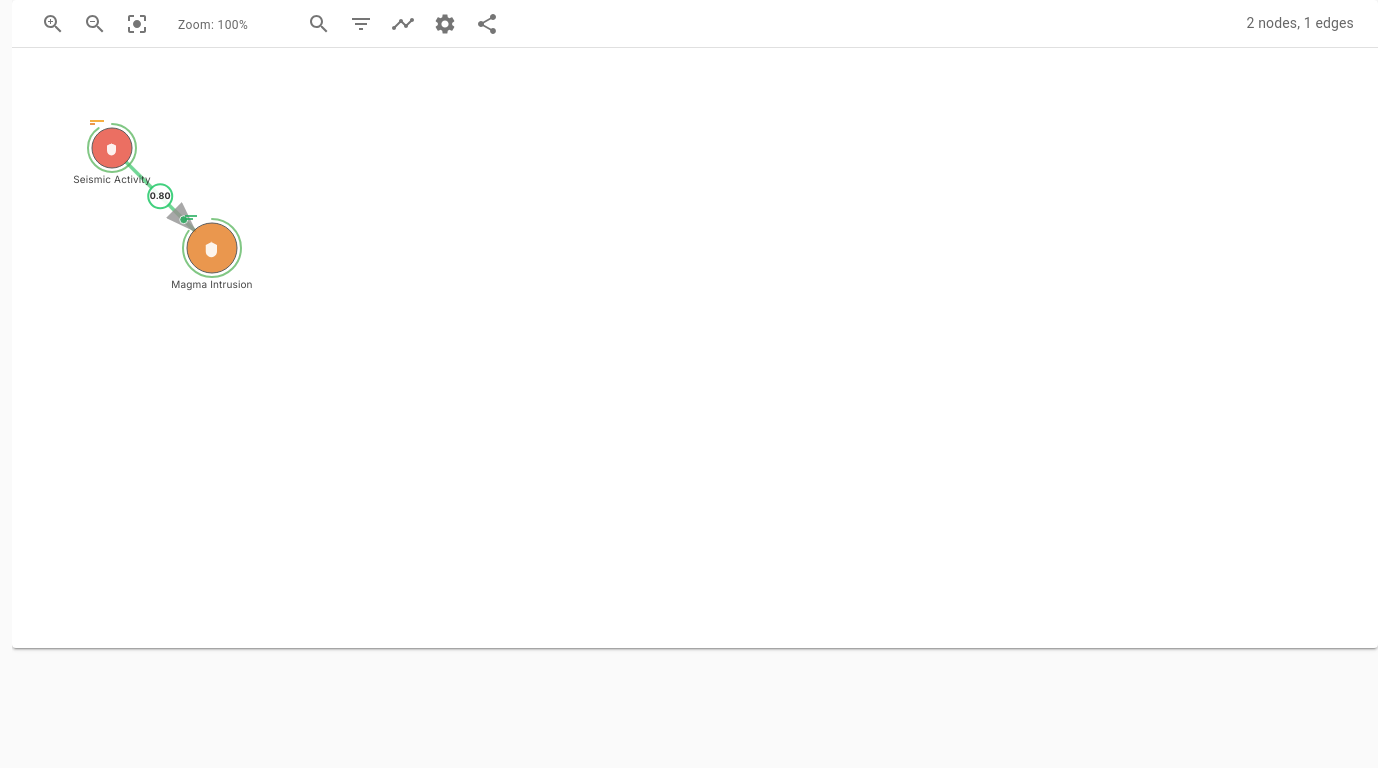
CausalNetworkVisualization › opens filter panel when filter button is clicked
What coordinates should you click on to do the following:
click the button named "Filter"
I would click on:
 (361, 24)
Its box is [344,6,378,40].
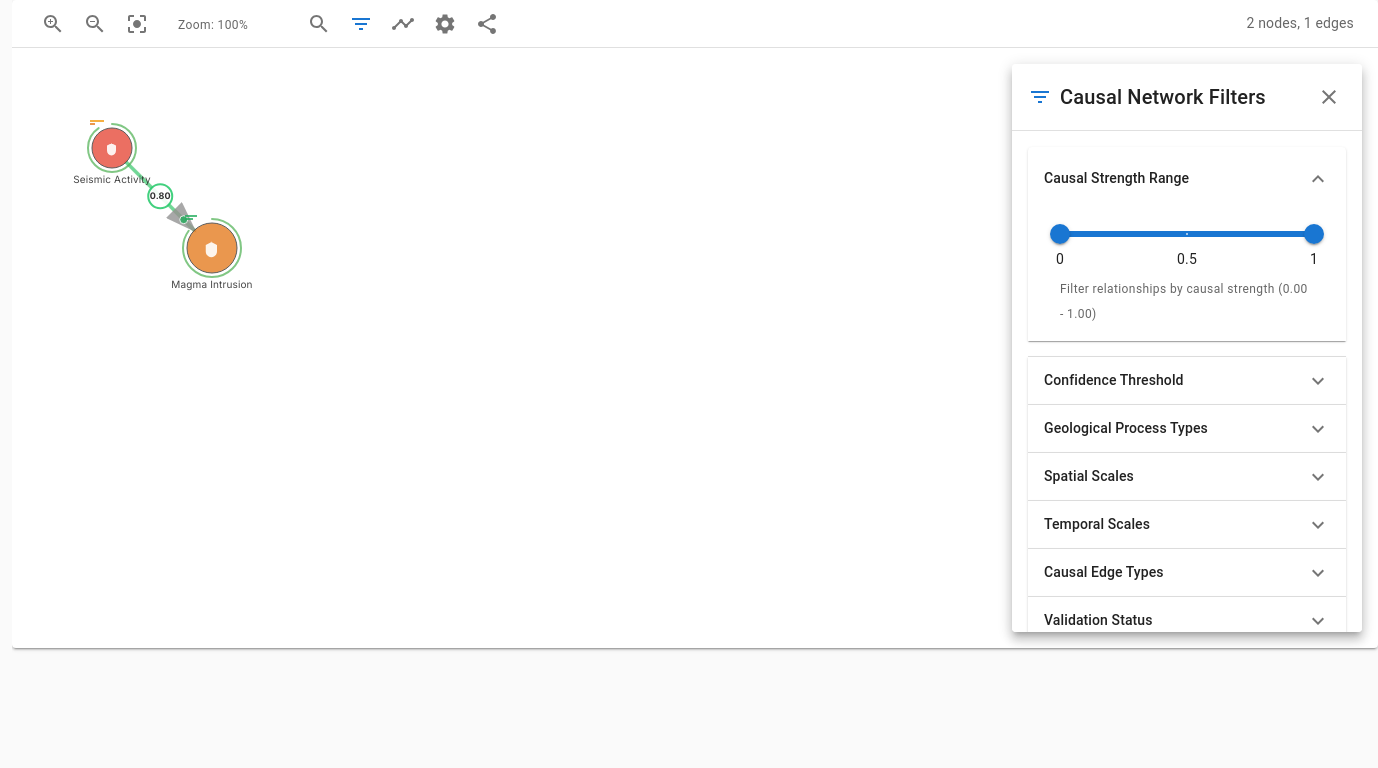
Now the heading "Causal Network Filters" is shown, box [1060,81,1266,113]
